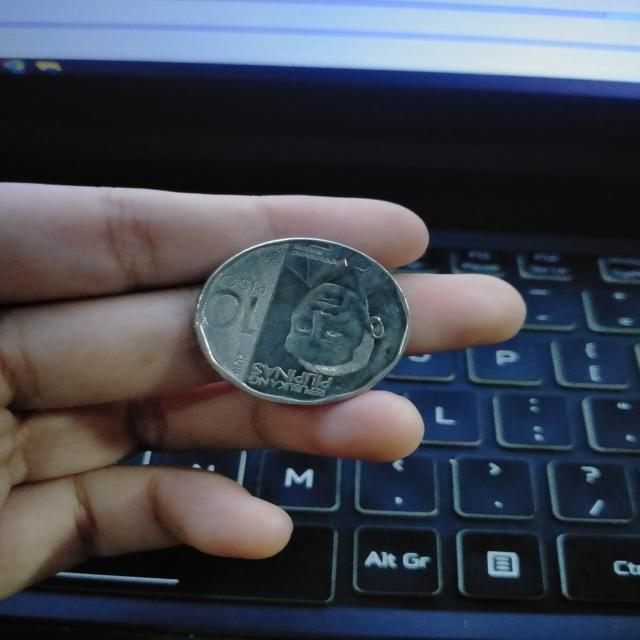10_New_Front: (203, 249, 390, 402)
